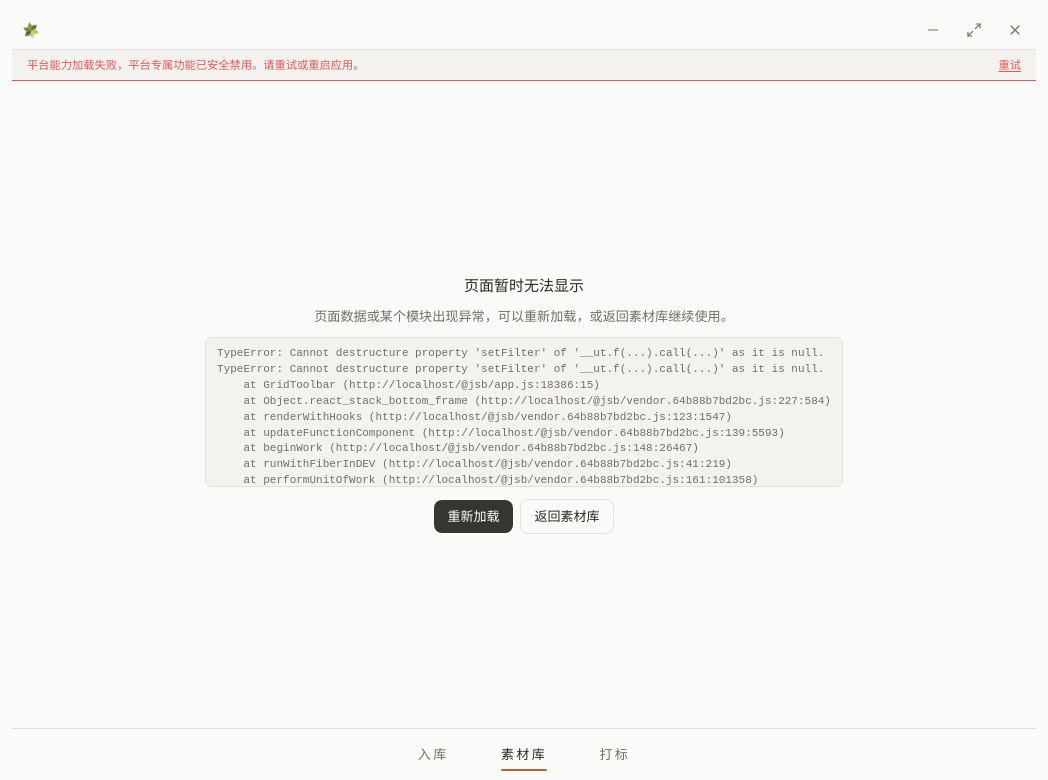
Test: App 启动骨架（§3.2） › 平台能力加载失败时展示重试并保持安全降级
The image size is (1048, 780).
Expected: the message shows "平台专属功能已安全禁用", x1=27 y1=57 x2=364 y2=72
Click the button "重试" at (1010, 64), box x1=998 y1=57 x2=1021 y2=72
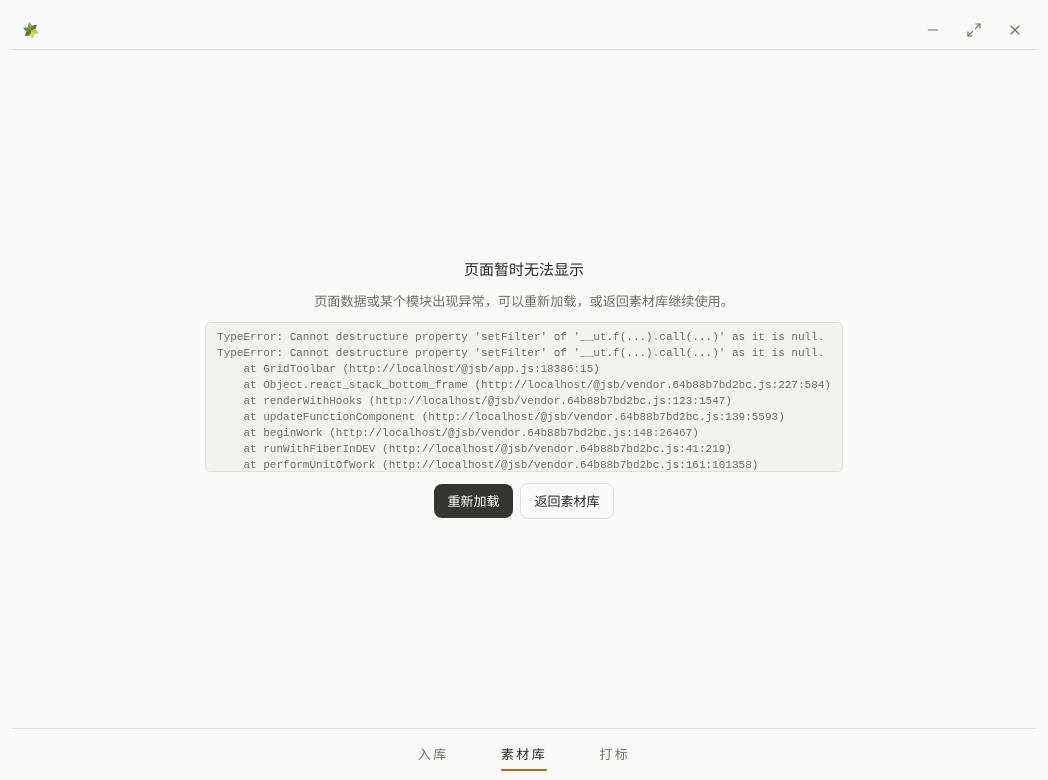
Expected: the message "平台能力加载失败，平台专属功能已安全禁用。请重试或重启应用。 重试" is gone
